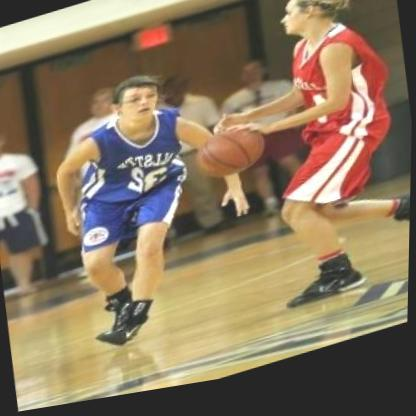basketball: (188, 116, 277, 199)
